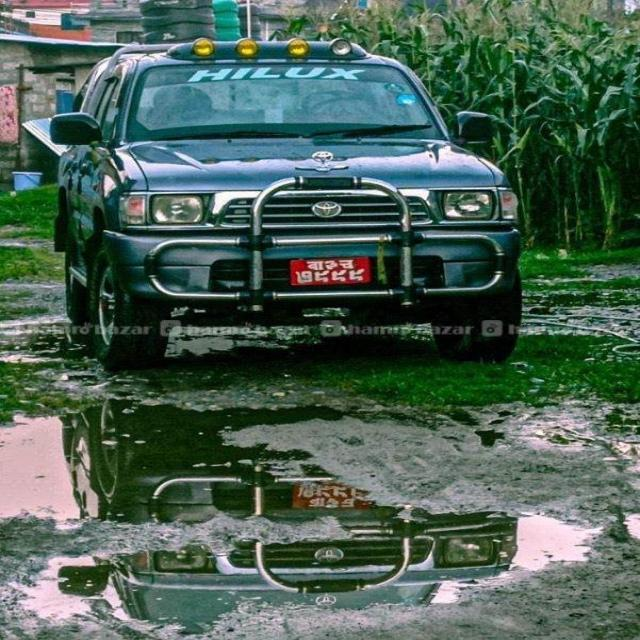License-plate: (285, 257, 375, 285)
